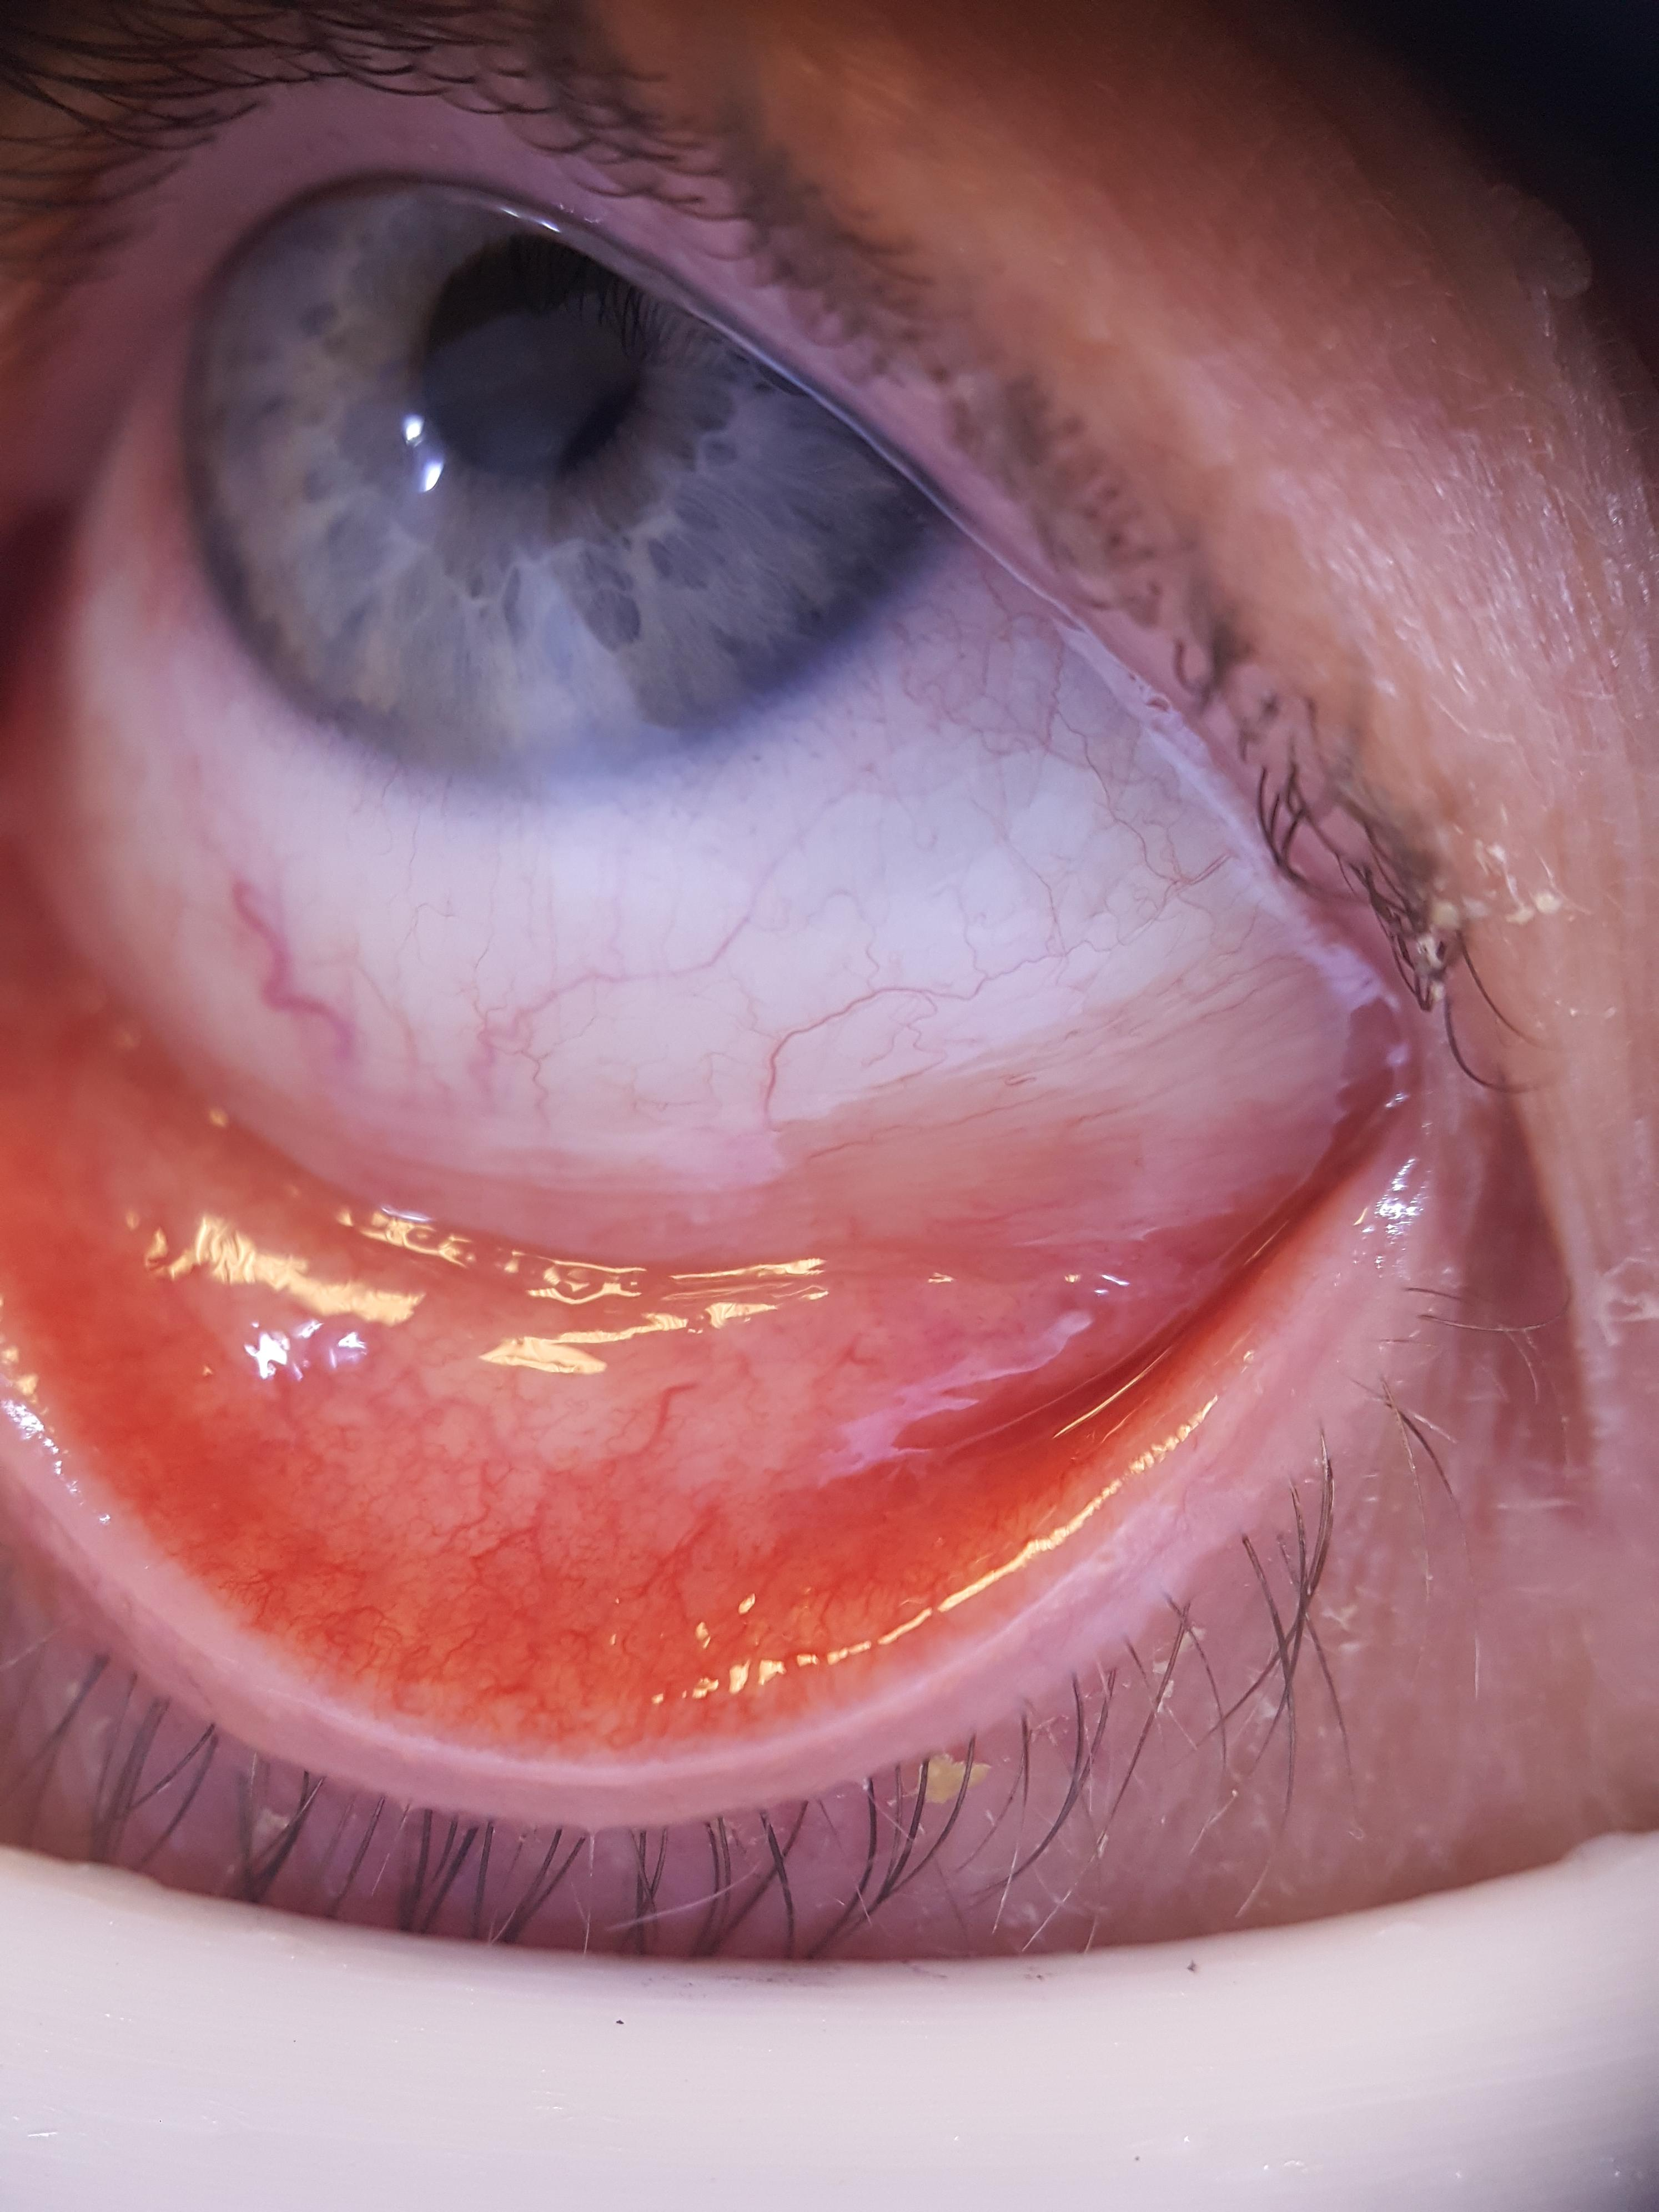forniceal: (23, 1066, 1255, 1576)
forniceal_palpebral: (2, 1062, 1352, 1724)
palpebral: (17, 1082, 1338, 1710)
